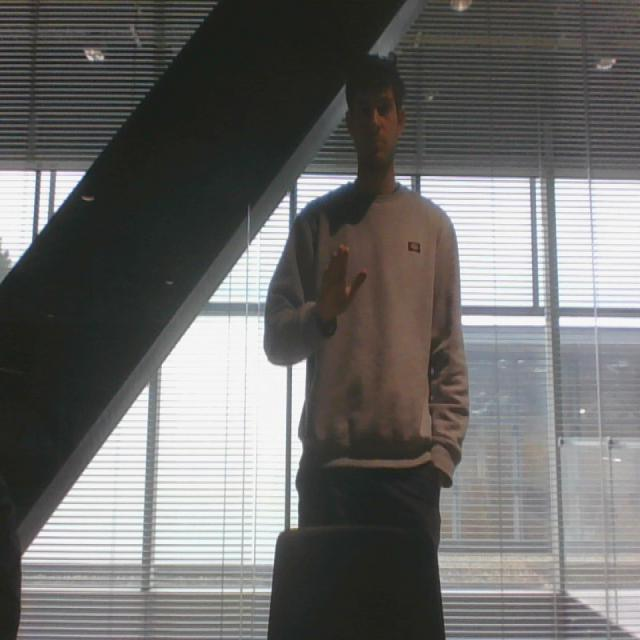backward: (311, 228, 371, 332)
